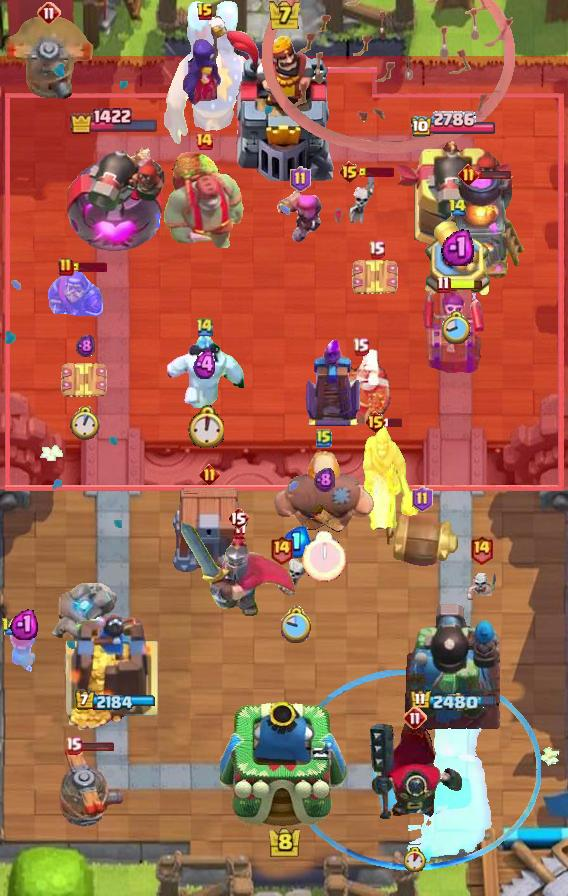axe: (181, 14, 229, 105)
balloon: (271, 449, 377, 539)
bomb: (170, 488, 248, 574)
dark-prince: (4, 17, 94, 103), (38, 744, 128, 828)
electro-spirit: (441, 227, 475, 266), (282, 526, 312, 558), (10, 608, 38, 641), (193, 348, 218, 380), (314, 467, 335, 493), (76, 334, 95, 358)
elixir: (302, 531, 346, 582), (187, 404, 225, 447), (281, 606, 313, 643), (442, 310, 472, 346), (70, 406, 100, 441), (404, 847, 426, 872)
elixir-collector: (324, 347, 396, 427)
emote: (448, 277, 484, 290), (79, 740, 115, 752), (476, 168, 511, 179), (358, 167, 394, 177), (71, 262, 107, 272), (384, 416, 404, 427)
firecracker-evolution: (47, 269, 103, 319)
freeze: (360, 422, 422, 534)
goblin-brawler: (351, 257, 401, 297), (60, 360, 110, 400)
heal-spirit: (276, 549, 318, 601), (347, 172, 375, 224), (465, 570, 497, 604)
hog-rider: (5, 623, 43, 675)
hunter: (437, 171, 525, 281)
ice-spirit-evolution-symbol: (303, 336, 363, 428)
inferno-tower: (366, 720, 464, 824)
king-tower: (223, 31, 345, 181), (220, 702, 348, 827)
lava-hound: (161, 146, 247, 258)
little-prince: (161, 0, 265, 148)
pad_0: (288, 670, 542, 872)
queen-tower: (62, 613, 165, 731)
rage: (165, 334, 245, 408)
royal-recruit: (421, 218, 493, 300)
selected: (68, 107, 159, 135), (411, 111, 498, 139), (410, 689, 499, 713), (73, 691, 154, 713)
skeleton-barrel: (262, 0, 516, 154)
skeleton-king-bar: (422, 287, 484, 373)
text: (270, 534, 295, 565), (470, 534, 495, 565), (37, 1, 61, 25), (403, 706, 427, 730), (289, 166, 311, 192), (338, 160, 361, 184), (365, 410, 388, 434), (412, 486, 433, 512), (227, 506, 249, 530), (199, 463, 220, 485), (458, 163, 479, 184), (195, 315, 215, 336), (194, 131, 214, 151), (1, 617, 20, 636), (196, 2, 214, 22), (448, 199, 468, 217), (351, 337, 369, 356), (367, 241, 385, 259), (66, 736, 83, 755), (58, 257, 74, 277), (316, 428, 332, 448), (437, 274, 451, 293)
the-log: (382, 514, 462, 568)
tombstone: (277, 188, 323, 244)
tower-bar: (392, 138, 514, 256), (403, 601, 503, 731), (63, 136, 165, 256)
valkyrie-evolution: (50, 583, 120, 651)
wall-breaker-evolution: (179, 521, 297, 619)
